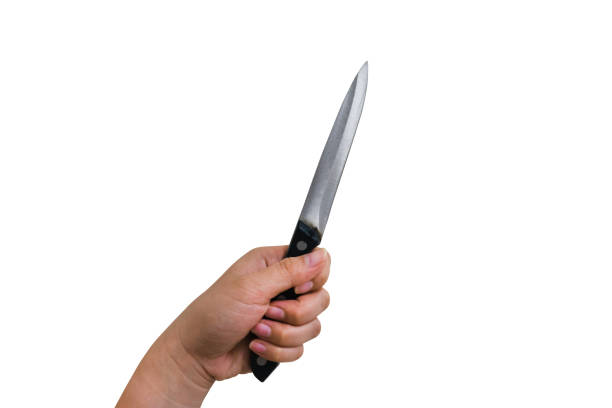knife: (281, 58, 371, 263)
